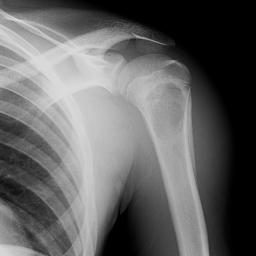cancer: (147, 82, 186, 143)
